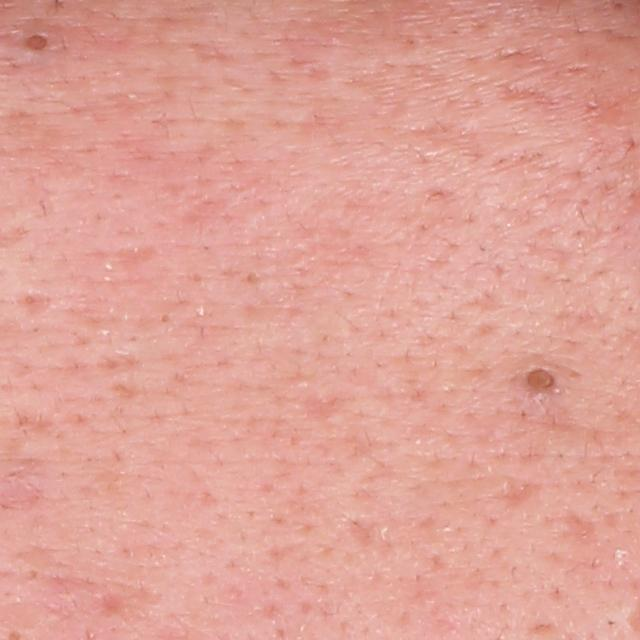atrophic_scar: (267, 377, 352, 431), (541, 506, 601, 551), (495, 473, 545, 507), (10, 287, 50, 316)
comedo: (515, 362, 560, 399), (20, 30, 52, 53), (153, 305, 176, 329)
